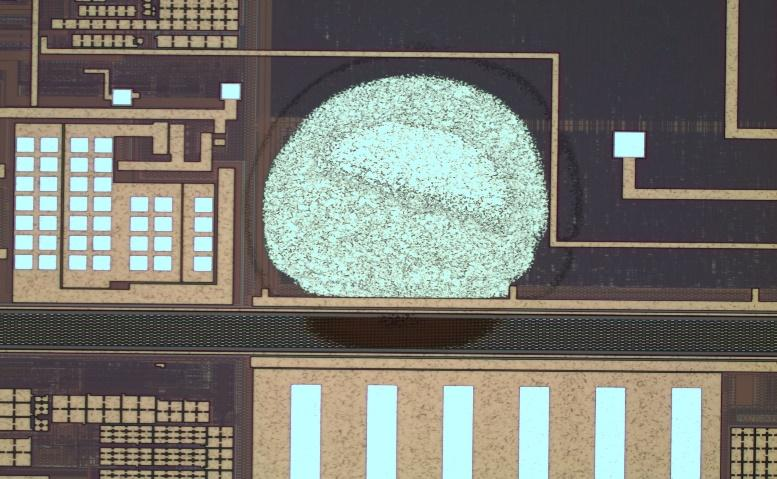BLOCK ETCH: (240, 45, 588, 356)
